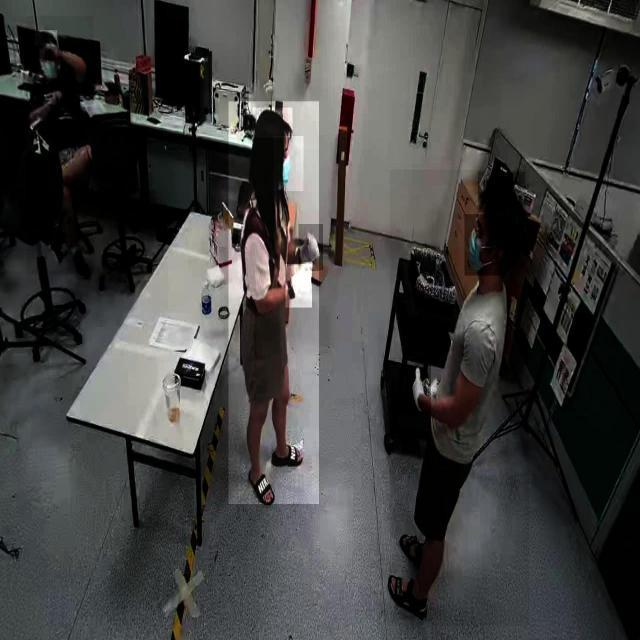gloves: (407, 359, 431, 414), (298, 224, 324, 271), (286, 264, 312, 308)
